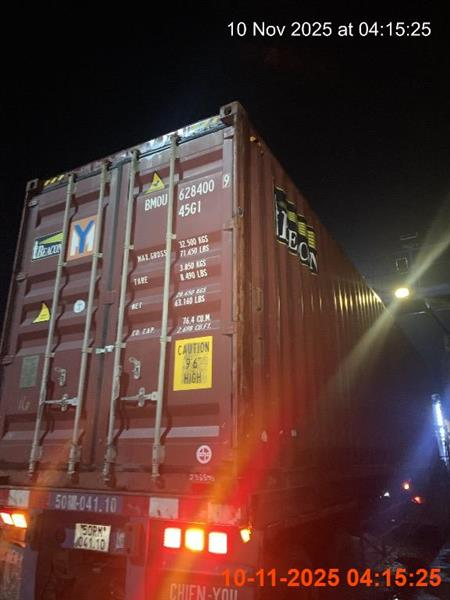hole: (0, 104, 448, 599)
